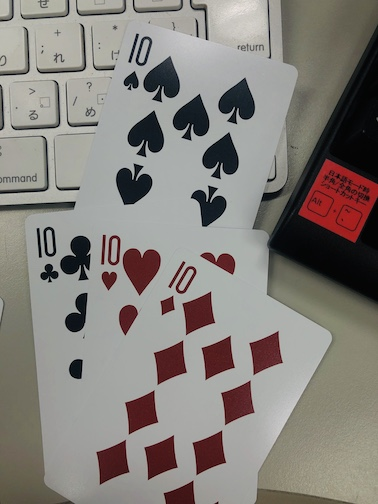ten: (87, 261, 327, 504), (77, 19, 299, 274), (21, 211, 86, 492), (87, 224, 164, 339)
